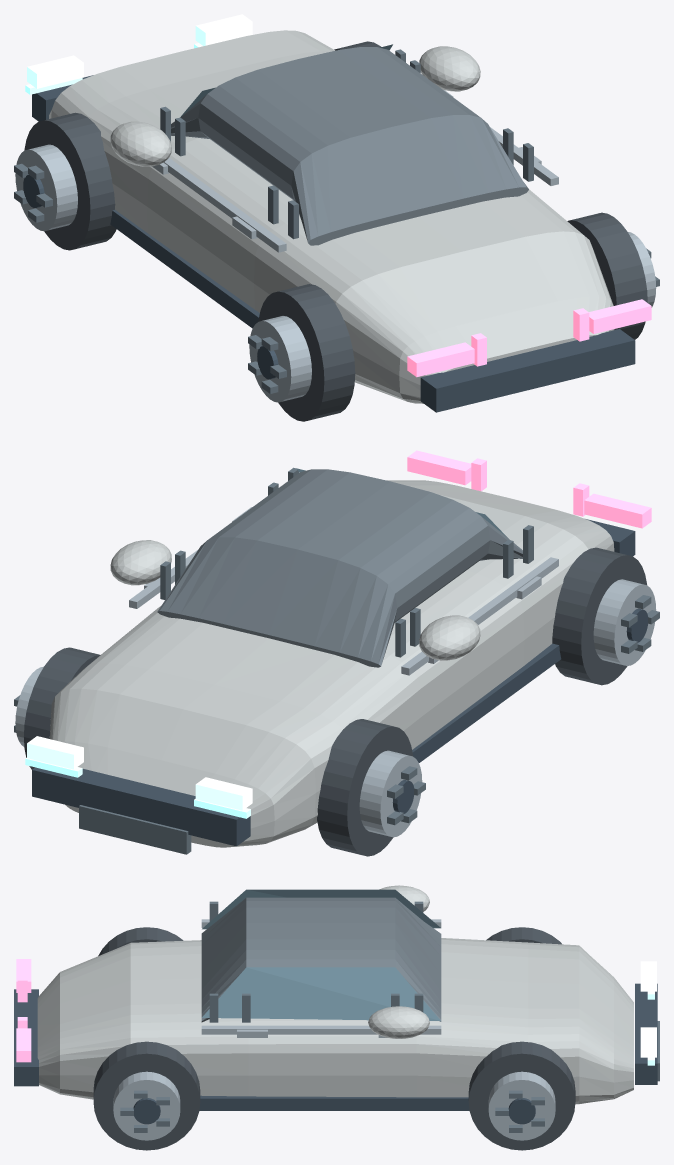
Rendered from sedan.glb.
3 renders of one model, top to bottom at view 1: azimuth 30°, elevation 25°; view 2: azimuth 150°, elevation 25°; view 3: azimuth 270°, elevation 25°, orthographic. The views are drawn at different scales.
Visible parts, largest first — view 1: curved-monocoque-shell, cabin-and-roof, rubber, dark, alum, silver, frame, red, headlight; view 2: curved-monocoque-shell, cabin-and-roof, rubber, dark, alum, frame, silver, red, headlight, neon; view 3: curved-monocoque-shell, cabin-and-roof, rubber, glass, dark, alum, frame, silver, red, headlight.
Part boxes in pixels (left/top/right/bottom): curved-monocoque-shell: left=49, top=30, right=614, bottom=403; cabin-and-roof: left=171, top=47, right=528, bottom=245; rubber: left=24, top=41, right=647, bottom=421; dark: left=23, top=75, right=635, bottom=412; alum: left=15, top=90, right=656, bottom=402; silver: left=110, top=46, right=480, bottom=166; frame: left=14, top=49, right=659, bottom=393; red: left=407, top=299, right=651, bottom=377; headlight: left=27, top=14, right=252, bottom=88; curved-monocoque-shell: left=49, top=480, right=614, bottom=847; cabin-and-roof: left=157, top=469, right=522, bottom=667; rubber: left=24, top=547, right=646, bottom=856; dark: left=32, top=519, right=647, bottom=846; alum: left=15, top=507, right=656, bottom=837; frame: left=14, top=467, right=659, bottom=854; silver: left=110, top=540, right=480, bottom=660; red: left=407, top=450, right=651, bottom=528; headlight: left=27, top=736, right=252, bottom=810; neon: left=25, top=758, right=250, bottom=818; curved-monocoque-shell: left=37, top=938, right=633, bottom=1104; cabin-and-roof: left=201, top=897, right=441, bottom=1022; rubber: left=93, top=927, right=575, bottom=1150; glass: left=202, top=889, right=440, bottom=1021; dark: left=14, top=983, right=657, bottom=1124; alum: left=113, top=919, right=555, bottom=1140; frame: left=120, top=901, right=659, bottom=1132; silver: left=368, top=885, right=429, bottom=1038; red: left=16, top=959, right=31, bottom=1062; headlight: left=640, top=961, right=656, bottom=1057.
Bounding box in the file's own units: 2.84 × 1.46 × 5.2.
